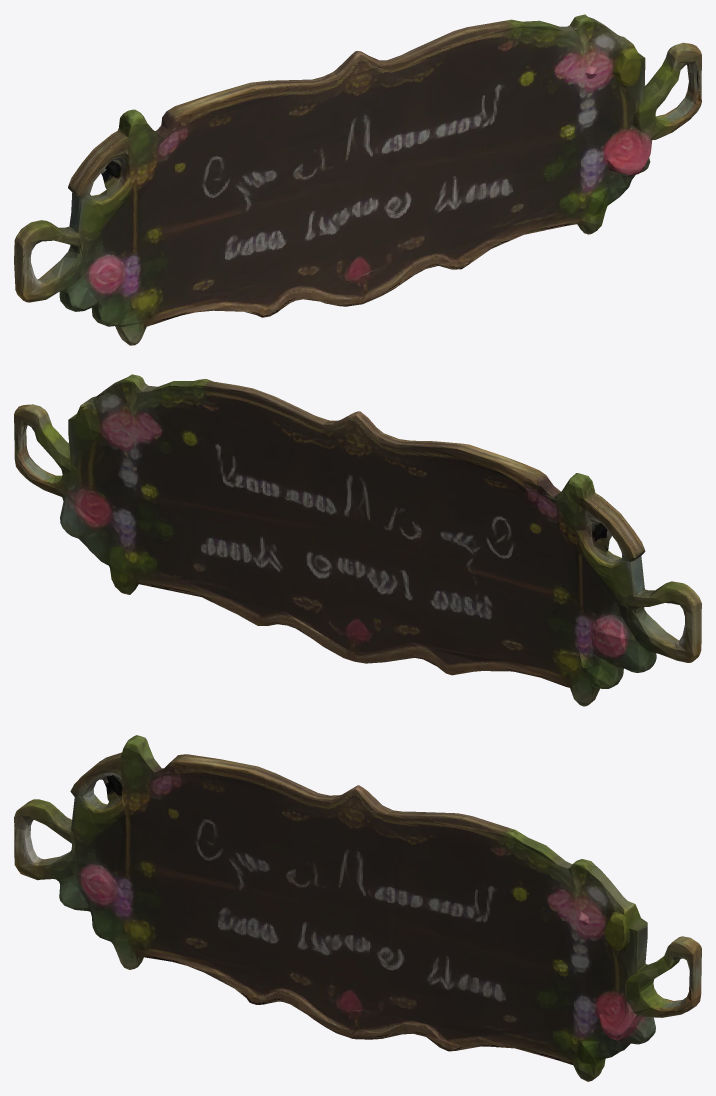
3 renders of one model, top to bottom at view 1: azimuth 30°, elevation 25°; view 2: azimuth 150°, elevation 25°; view 3: azimuth 330°, elevation 25°, orthographic.
Parts seen in each view (by area): view 1: world; view 2: world; view 3: world.
Part boxes in pixels (x1=…): world: x1=14, y1=14, x2=701, y2=345; world: x1=14, y1=374, x2=701, y2=706; world: x1=14, y1=735, x2=701, y2=1081.
Bounding box in the file's own units: 1 × 0.3514 × 0.0514.
Materials: 1 (1 with a texture image).
